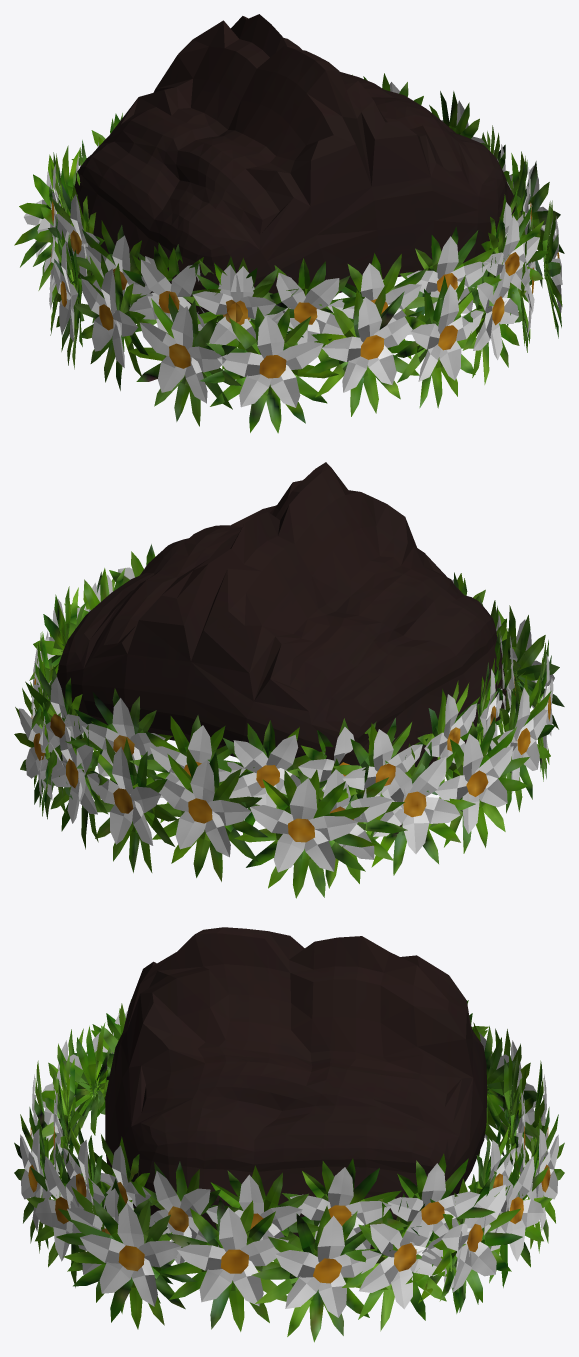
Rendered from flower_crown.obj.
3 renders of one model, top to bottom at view 1: azimuth 30°, elevation 25°; view 2: azimuth 150°, elevation 25°; view 3: azimuth 270°, elevation 25°, orthographic. The views are drawn at different scales.
Parts seen in each view (by area): view 1: SURF-primary, crown; view 2: SURF-primary, crown; view 3: SURF-primary, crown.
Part boxes in pixels (bbox=[...]): SURF-primary: bbox=[74, 14, 515, 322]; crown: bbox=[14, 73, 564, 433]; SURF-primary: bbox=[57, 462, 506, 785]; crown: bbox=[14, 544, 564, 898]; SURF-primary: bbox=[105, 927, 487, 1248]; crown: bbox=[14, 999, 564, 1342].
Bounding box in the file's own units: 17.65 × 10.69 × 17.65.
2 materials, 2 textured.
